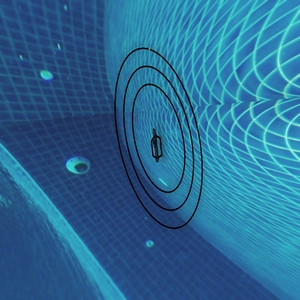circle: (105, 39, 219, 238)
submarine: (150, 134, 162, 164)
